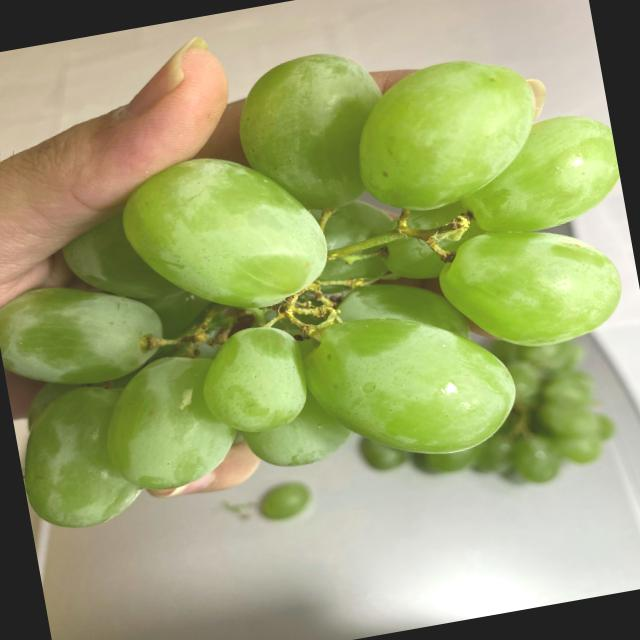grapes: (0, 8, 640, 539)
